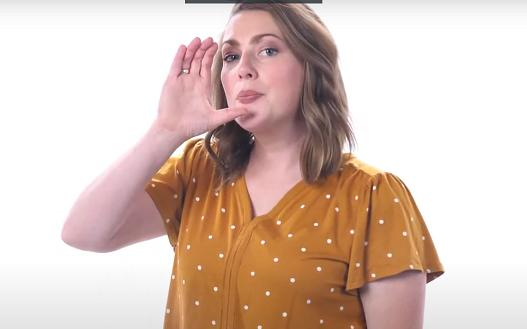drink: (153, 32, 251, 149)
